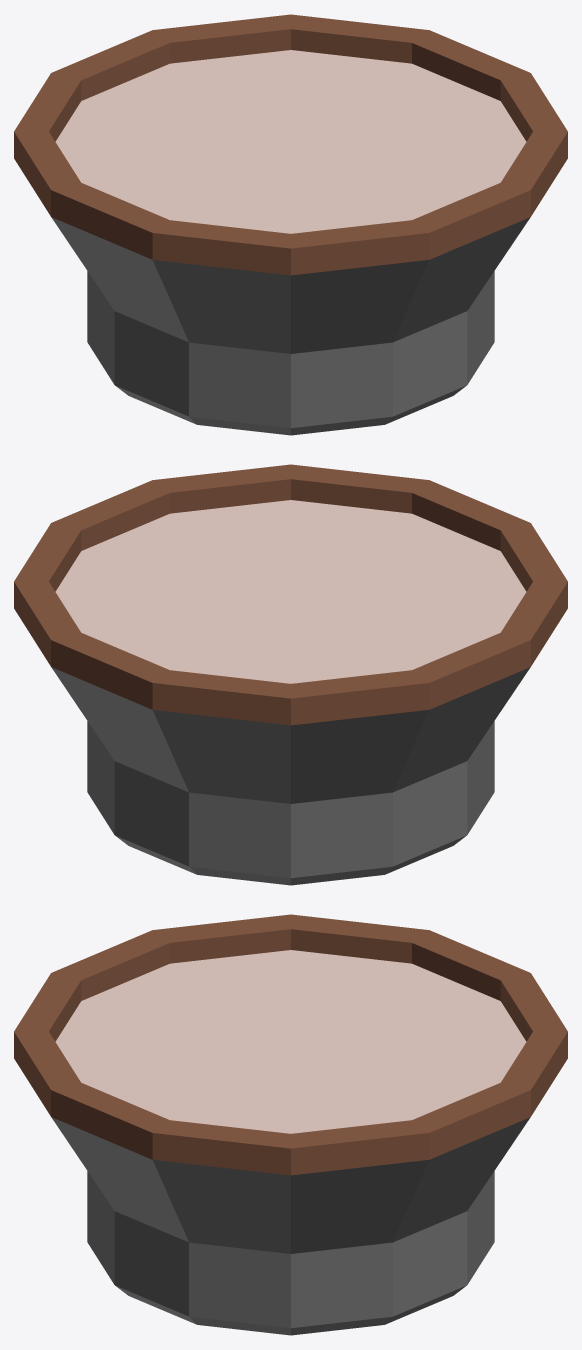
The model's file is JumpPlatform.fbx.
3 renders of one model, top to bottom at view 1: azimuth 30°, elevation 25°; view 2: azimuth 150°, elevation 25°; view 3: azimuth 270°, elevation 25°, orthographic.
Parts seen in each view (by area): view 1: Cylinder, Cylinder.001; view 2: Cylinder, Cylinder.001; view 3: Cylinder, Cylinder.001.
Boxes of the visible parts, x1=… form: Cylinder: x1=14, y1=14, x2=567, y2=435; Cylinder.001: x1=55, y1=50, x2=526, y2=233; Cylinder: x1=14, y1=464, x2=567, y2=885; Cylinder.001: x1=55, y1=500, x2=526, y2=683; Cylinder: x1=14, y1=914, x2=567, y2=1335; Cylinder.001: x1=55, y1=950, x2=526, y2=1133.
Bounding box in the file's own units: 200 × 89.5 × 200.
